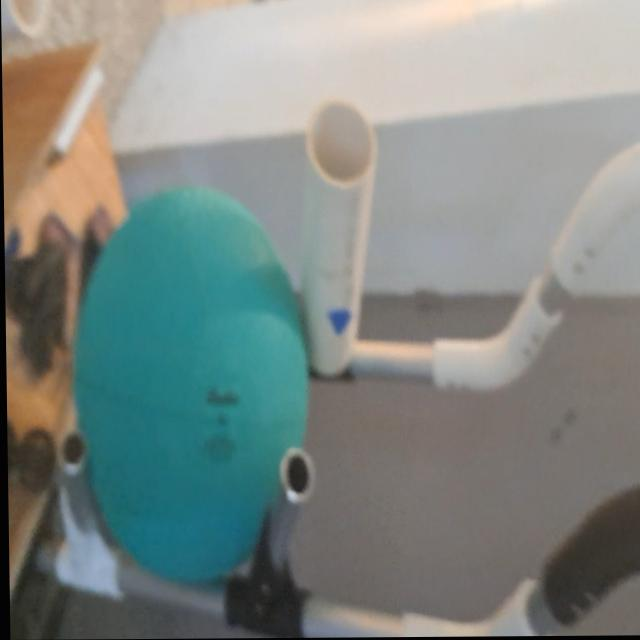ALGAE: (73, 185, 317, 595)
CORAL: (290, 92, 381, 386)
